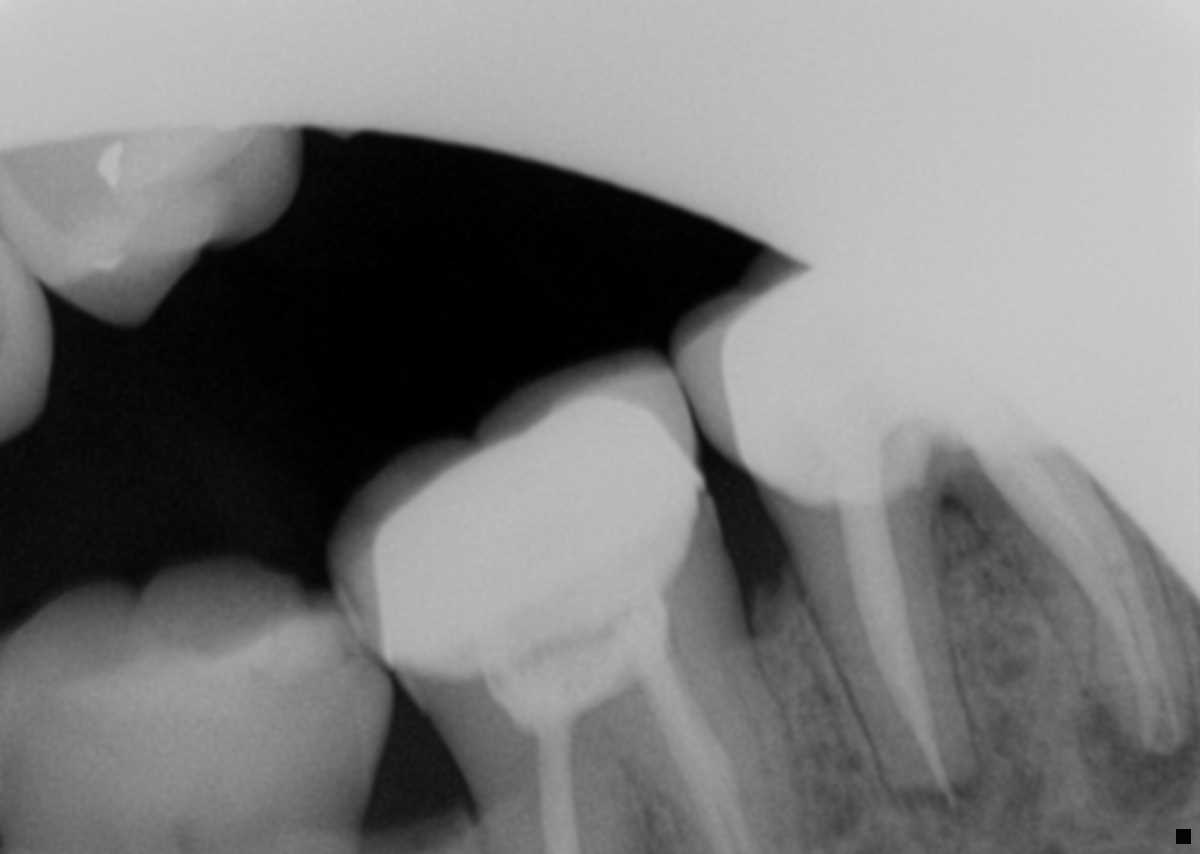Apical Lesion: (1072, 709, 1188, 818), (887, 767, 999, 845)
Distal Root: (457, 718, 649, 854)
Main Root: (797, 501, 976, 793)
Mesial Root: (961, 453, 1197, 753), (615, 590, 807, 854)
Root Canal Filling: (1005, 461, 1180, 748), (841, 497, 958, 812), (540, 737, 577, 850)
